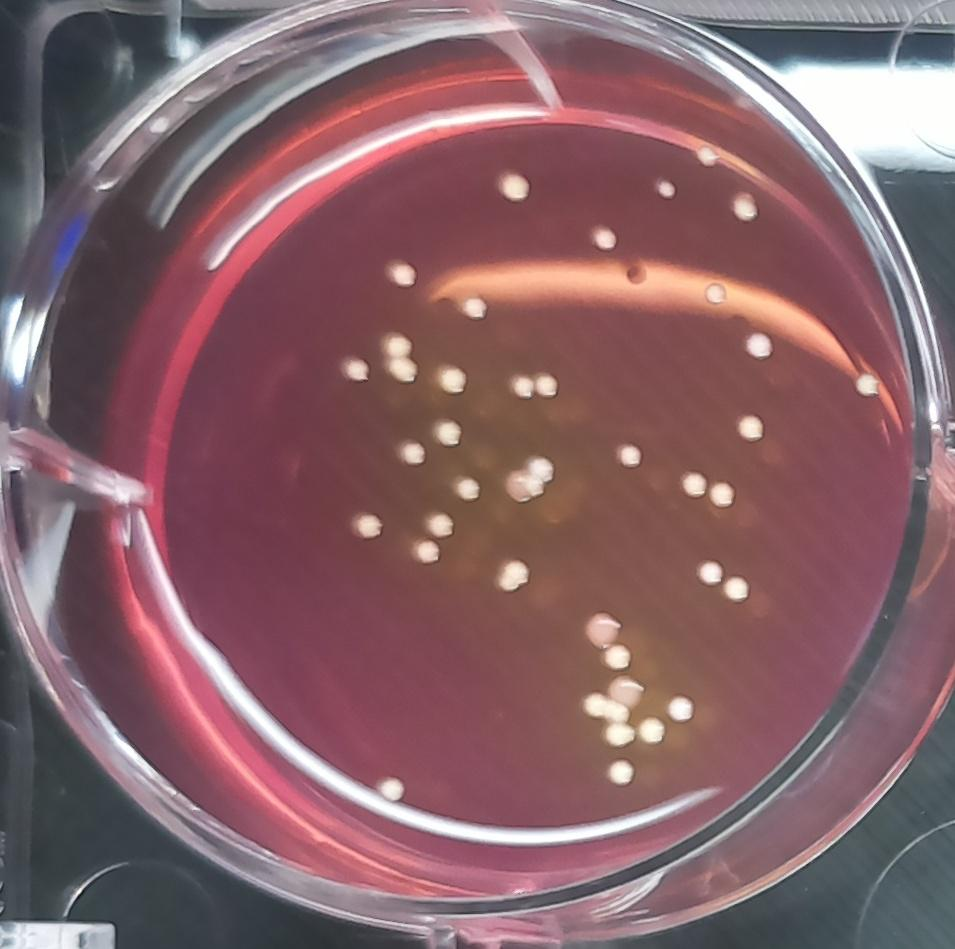staphylo-: (490, 548, 533, 598), (582, 688, 632, 724), (734, 408, 771, 450), (432, 362, 471, 401), (496, 169, 534, 207), (612, 436, 648, 475), (433, 414, 468, 451), (743, 328, 776, 365), (348, 511, 386, 543), (337, 352, 371, 385), (395, 436, 431, 467), (604, 757, 637, 790), (457, 290, 491, 322), (662, 693, 697, 724), (386, 258, 422, 288), (599, 642, 634, 672), (635, 713, 667, 745), (425, 506, 456, 539), (447, 472, 480, 503), (377, 773, 410, 804), (853, 366, 883, 400), (525, 452, 556, 484), (382, 330, 414, 361), (411, 537, 442, 568), (603, 722, 635, 752), (529, 370, 560, 400), (722, 575, 755, 602), (708, 479, 736, 508), (652, 175, 680, 203), (592, 224, 619, 252), (683, 467, 708, 496), (730, 191, 756, 217), (511, 373, 534, 399)
